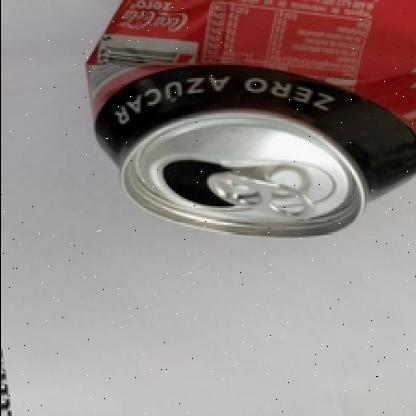Can: (82, 0, 416, 239)
